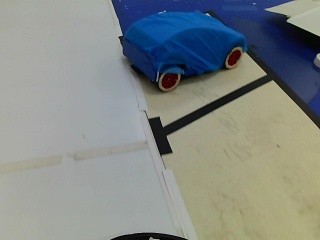car: (116, 12, 252, 91)
